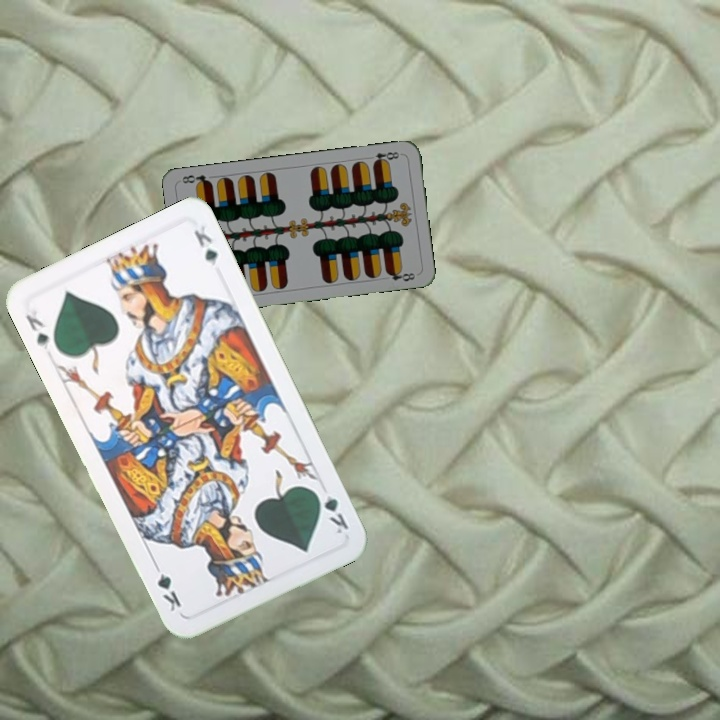E8: (364, 148, 404, 167)
GK: (310, 486, 351, 537), (21, 310, 52, 353)
